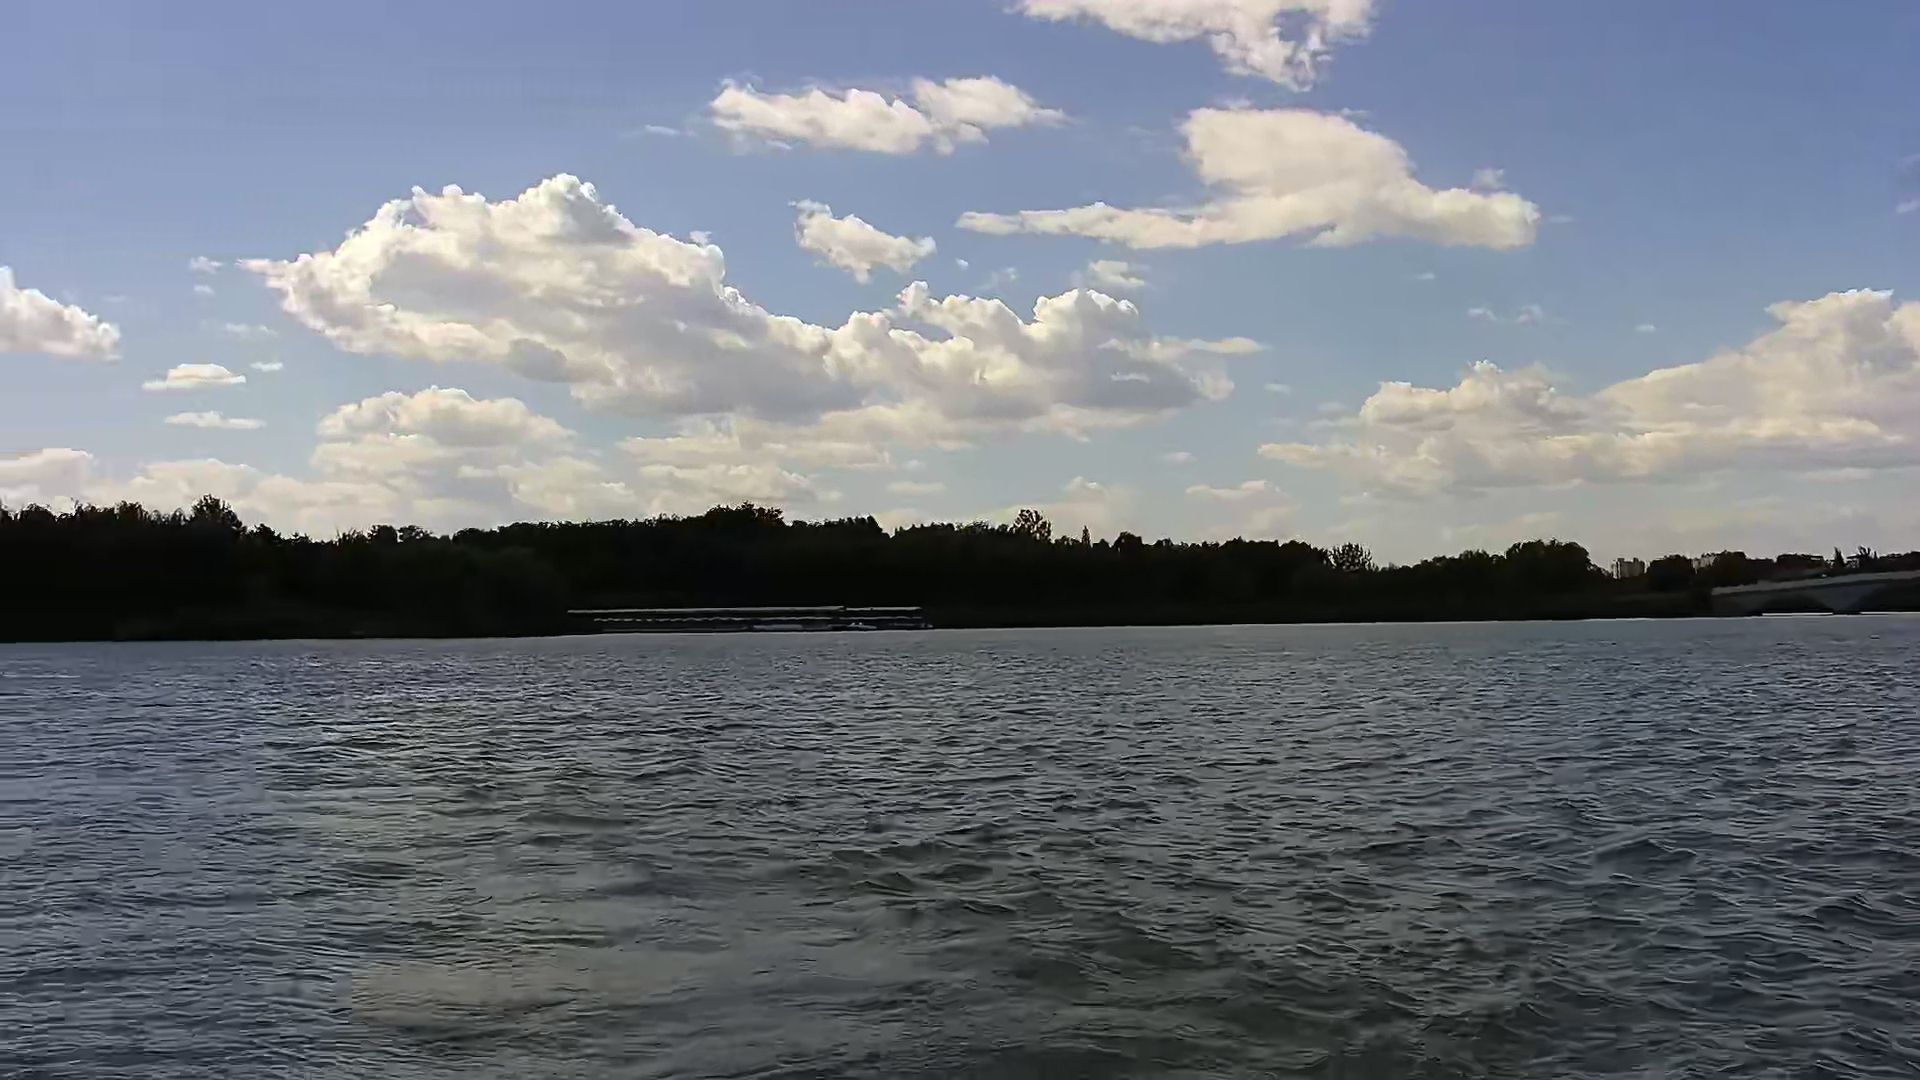harbor: (592, 601, 928, 636)
